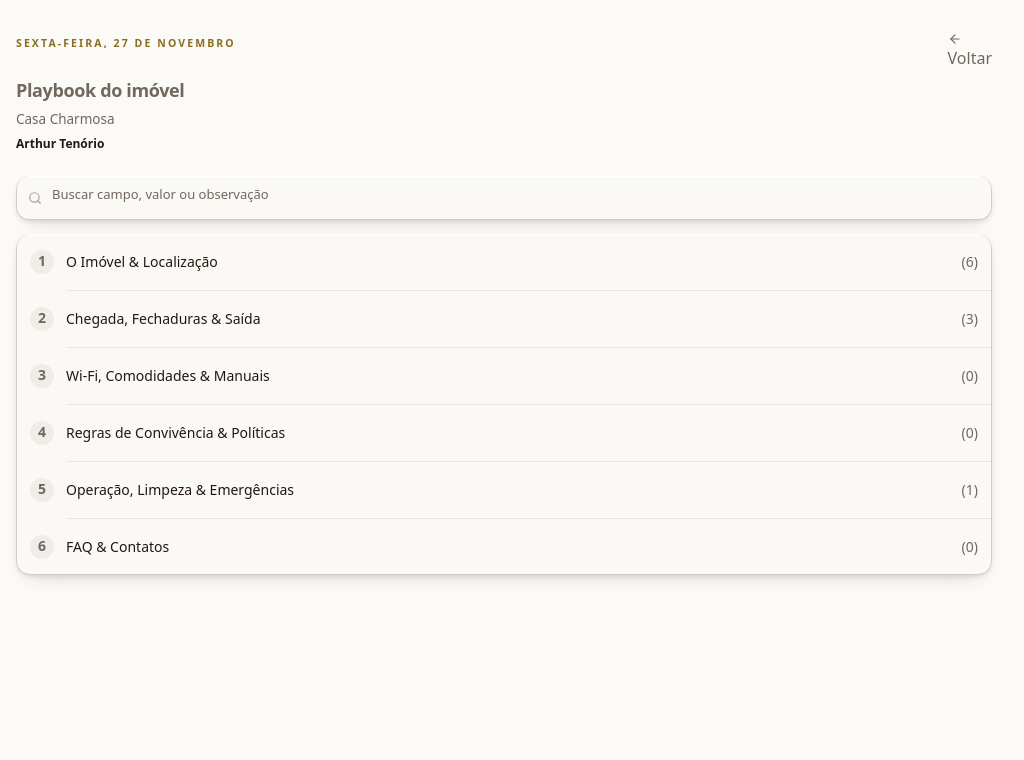
Test case: PlaybookPage (celular) › tocar num campo abre a janela com abas Texto / Nota / IA
Click the button "1 O Imóvel & Localização (6)". click: {"x": 142, "y": 262}
box: [30,250,978,274]
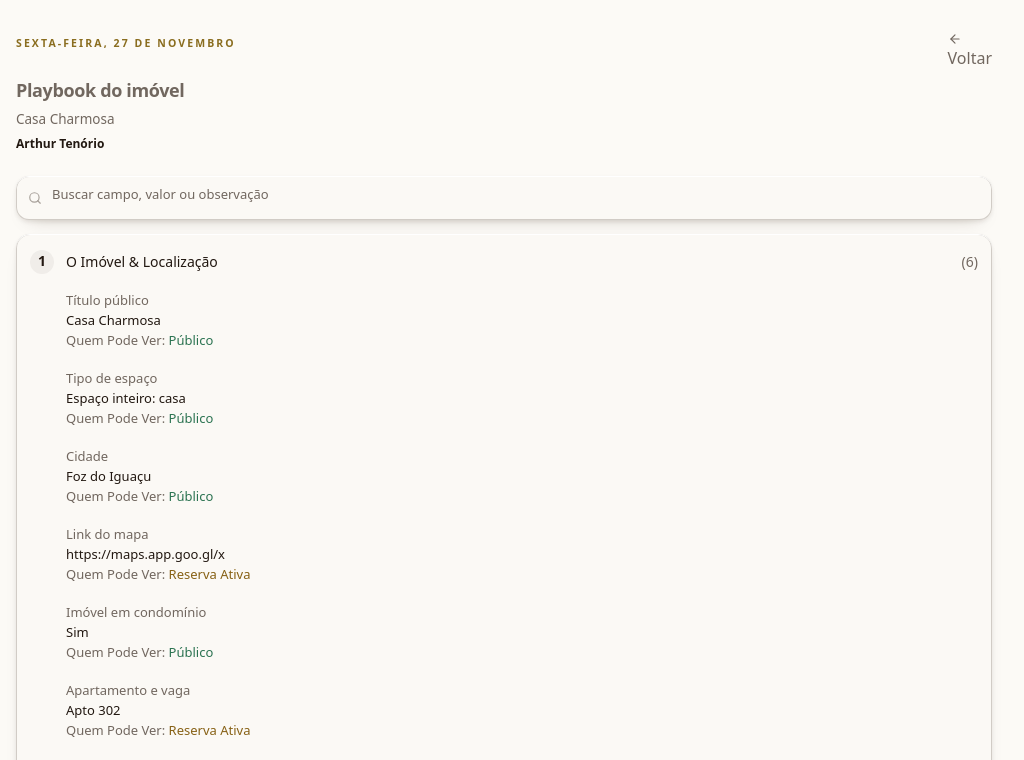
Click the text "Link do mapa". click: {"x": 107, "y": 534}
box: [66,525,148,543]
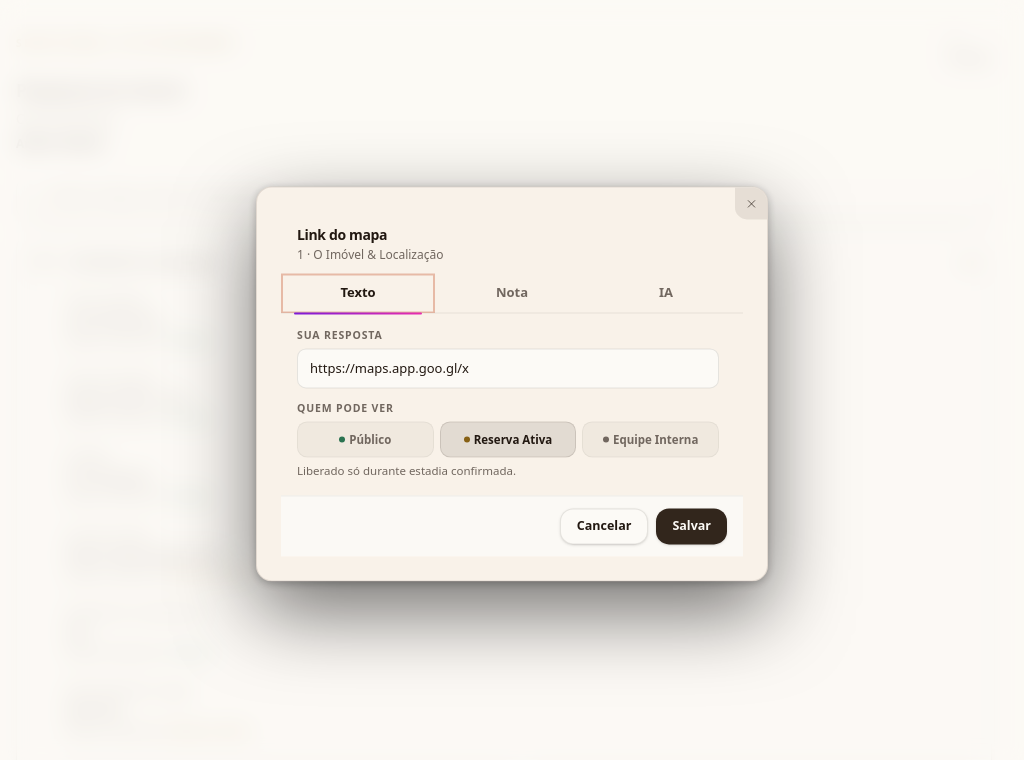
Now the tab "Texto" is shown, box [281,273,435,313]
Now the text box showing "https://maps.app.goo.gl/x" is shown, box [297,348,719,388]
Click the tab "IA". click: {"x": 666, "y": 293}
box: [589,273,743,313]
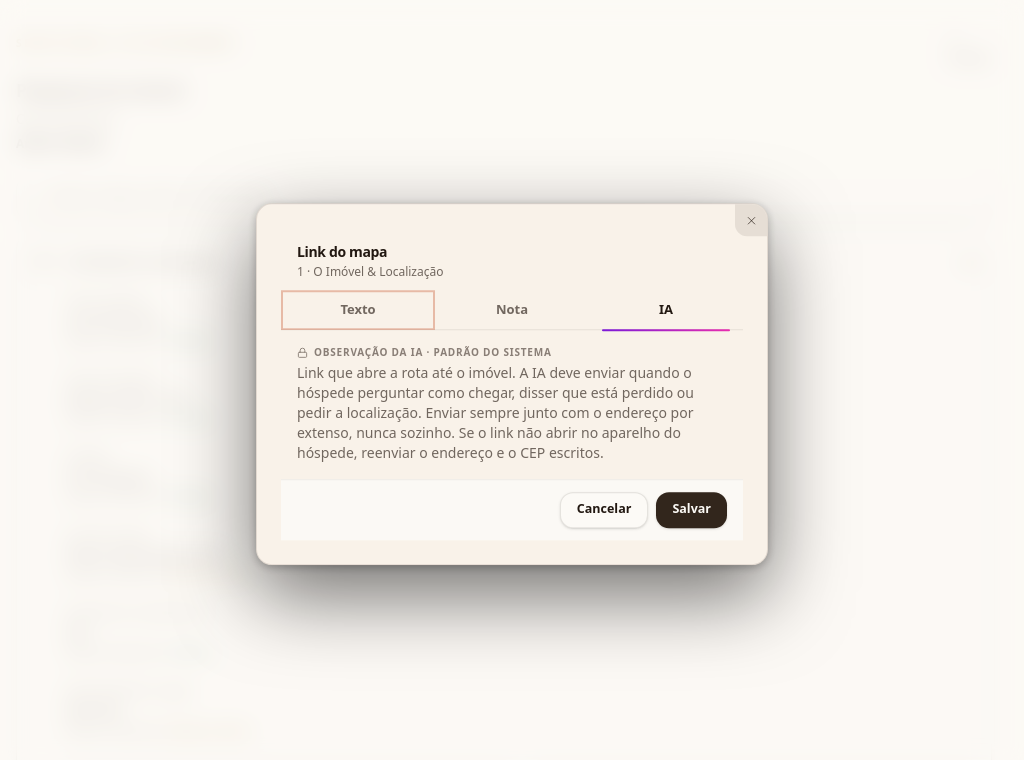
Now the text "Observação da IA · padrão do sistema" is shown, box [297,345,552,359]
Click the tab "Nota". click: {"x": 512, "y": 310}
box: [435,290,589,330]
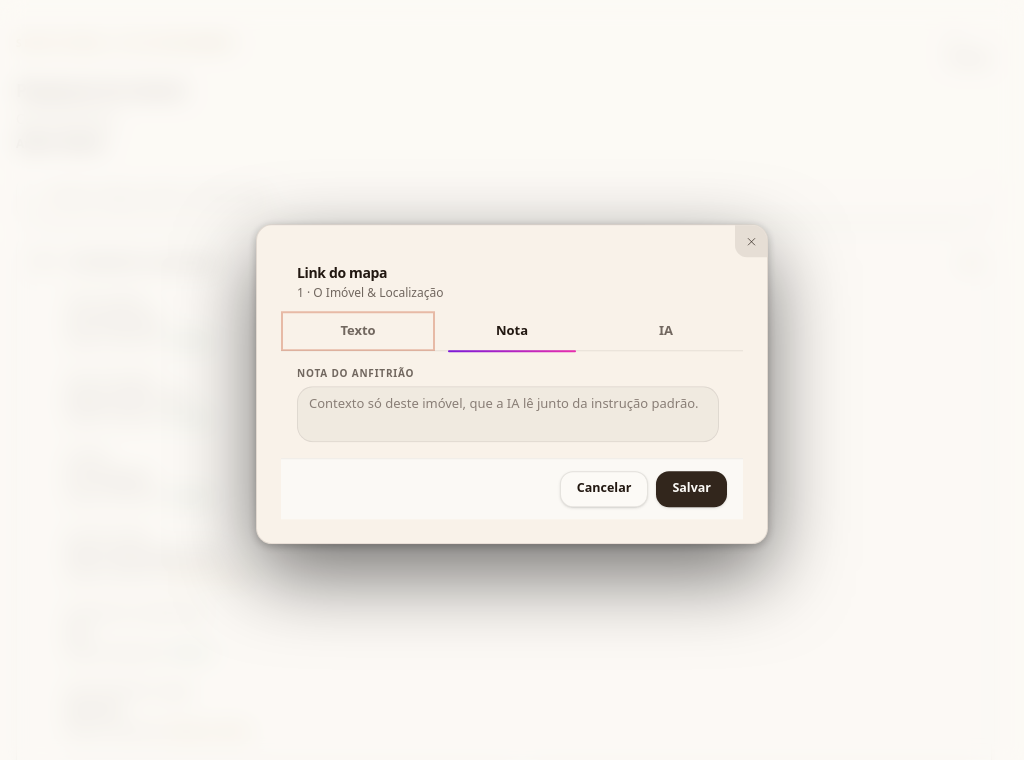
Now the text "Nota do anfitrião" is shown, box [297,366,414,380]
